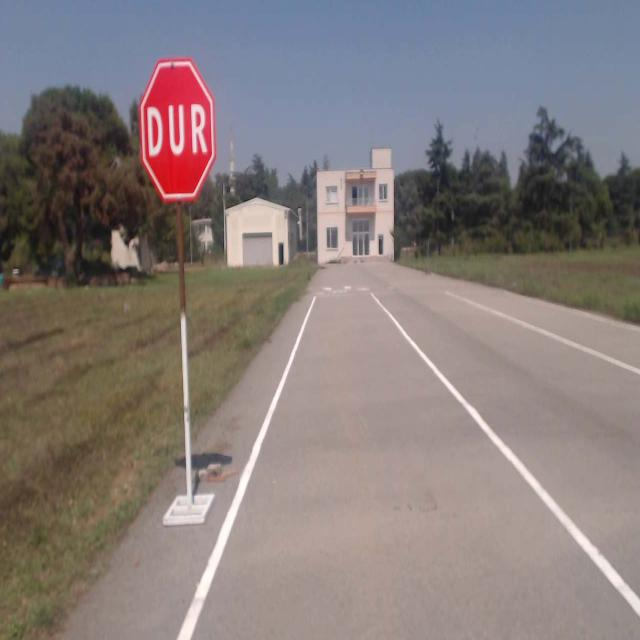dur: (138, 59, 216, 202)
